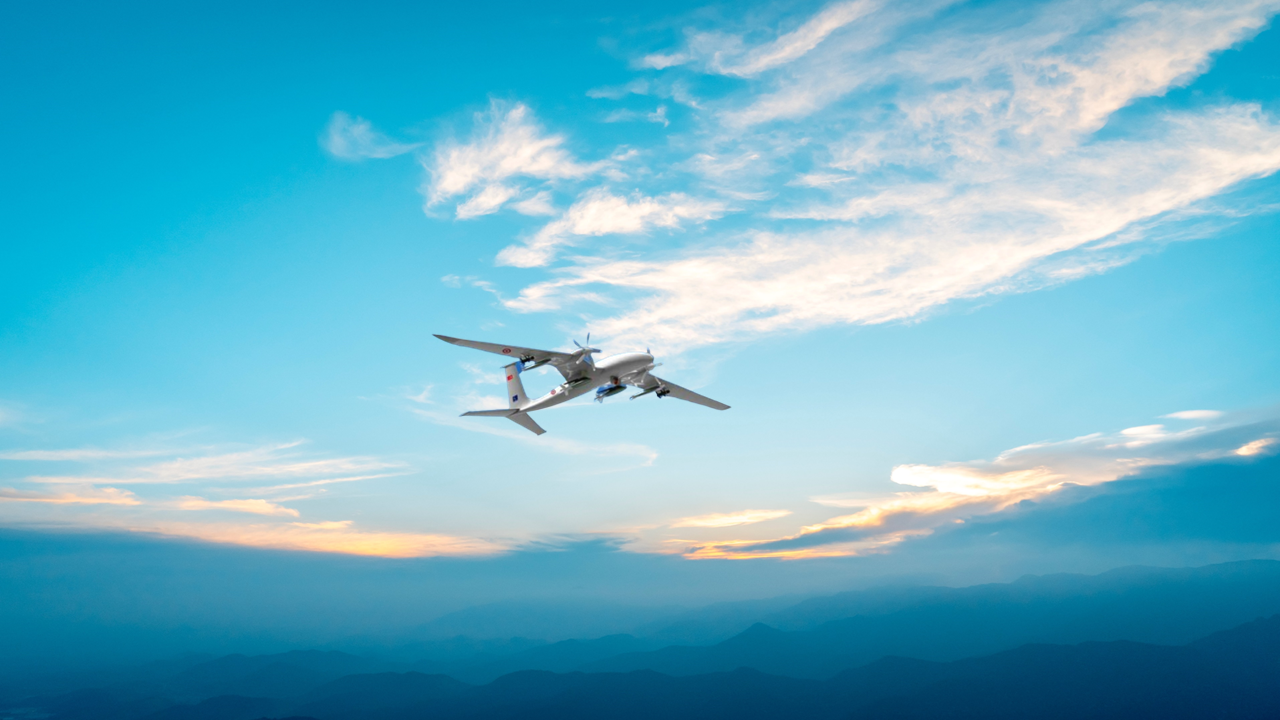military drone: (431, 333, 731, 435)
